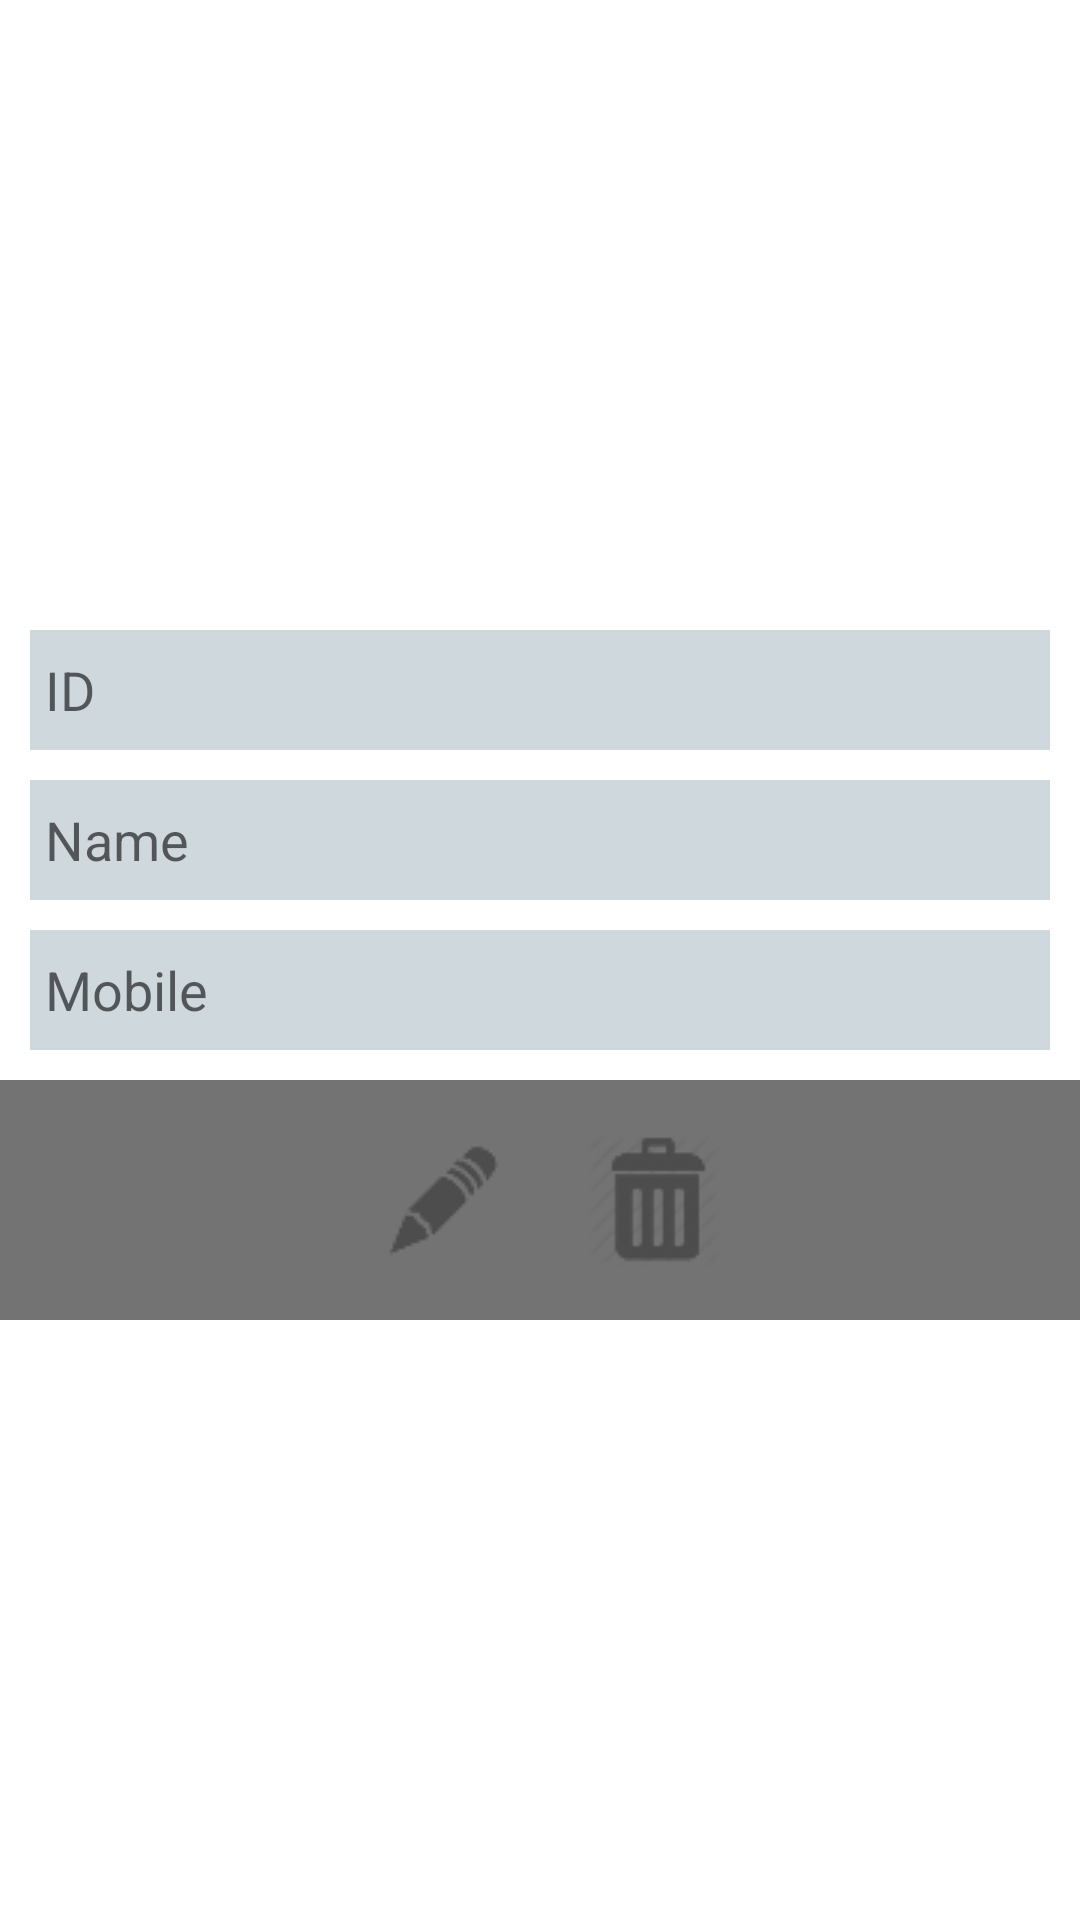

Point at icon controls on the screen. Image size 1080×1920, points as point (x, y).
delete: point (658, 1199)
edit: point (443, 1200)
